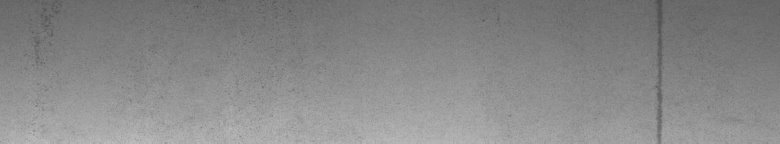hd: (652, 4, 668, 136)
